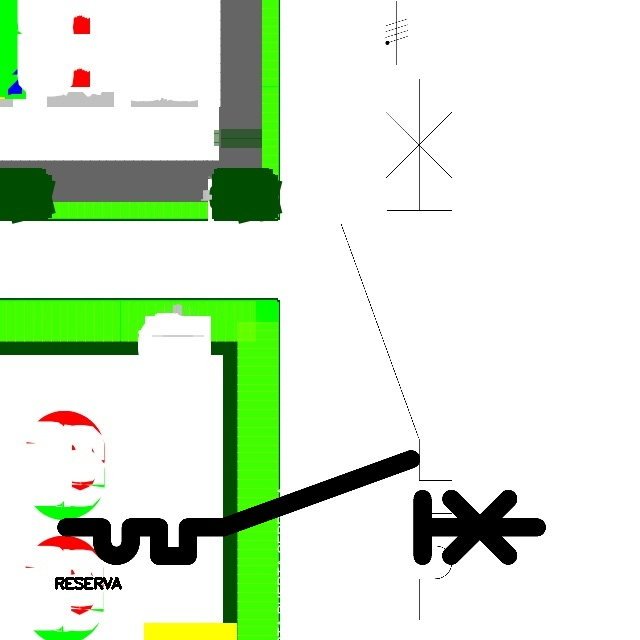interruptor_termomagnetico: (327, 65, 466, 634), (54, 447, 549, 568)
